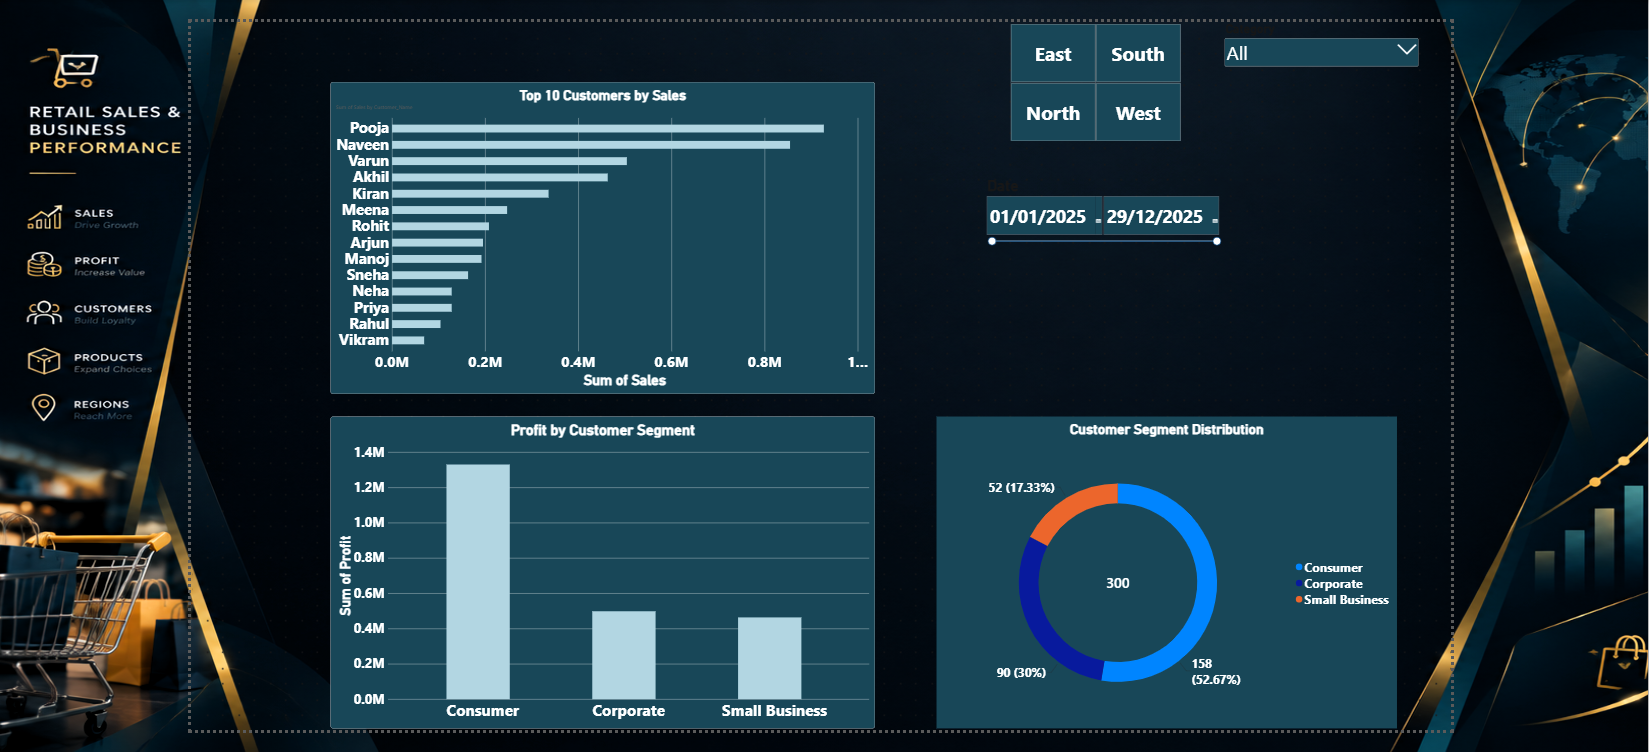

The dashboard page shown, as its layout file describes it:
{"tool":"powerbi","page":{"name":"Page 3","canvas":[3840,2160],"ordinal":2},"visuals":[{"type":"barChart","title":"Top 10 Customers by Sales","fields":{"Category":["Sales_Data.Customer_Name"],"Y":["Sum(Sales_Data.Sales)"]},"box":[424.4,181.9,1659.4,950.9],"z":0},{"type":"donutChart","title":"Customer Segment Distribution","fields":{"Category":["Sales_Data.Segment"],"Y":["CountNonNull(Sales_Data.Order_ID)"]},"box":[2273.7,1202.5,1403.4,950.9],"z":1},{"type":"columnChart","title":"Profit by Customer Segment","fields":{"Category":["Sales_Data.Segment"],"Y":["Sum(Sales_Data.Profit)"]},"box":[424.4,1202.5,1659.4,950.9],"z":2},{"type":"slicer","fields":{"Values":["Sales_Data.Order_Date"]},"box":[2420.2,469.9,724.8,278.4],"z":3},{"type":"slicer","fields":{"Values":["Sales_Data.Region"]},"box":[2476.8,4.8,556.8,360],"z":4},{"type":"slicer","fields":{"Values":["Sales_Data.Category"]},"box":[3144,0,600,360],"z":5}]}

Visuals, with their boxes on the page's 3840x2160 design canvas (x1, y1, x2, y2). These are canvas units, not pixel positions in the 1649x752 screenshot, which may show the page scaled, cropped or inside an application window:
"Top 10 Customers by Sales" barChart: <region>424, 182, 2084, 1133</region>
"Customer Segment Distribution" donutChart: <region>2274, 1202, 3677, 2153</region>
"Profit by Customer Segment" columnChart: <region>424, 1202, 2084, 2153</region>
slicer - Sales_Data.Order_Date: <region>2420, 470, 3145, 748</region>
slicer - Sales_Data.Region: <region>2477, 5, 3034, 365</region>
slicer - Sales_Data.Category: <region>3144, 0, 3744, 360</region>
